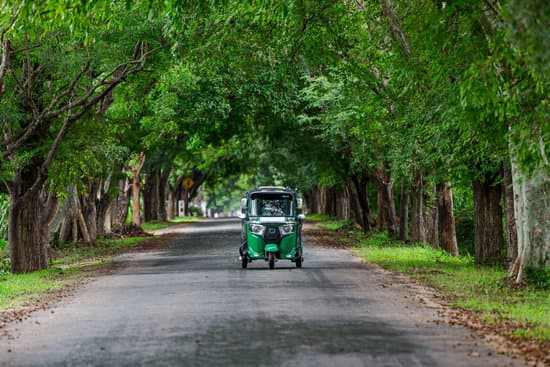threewheel: (239, 186, 306, 271)
